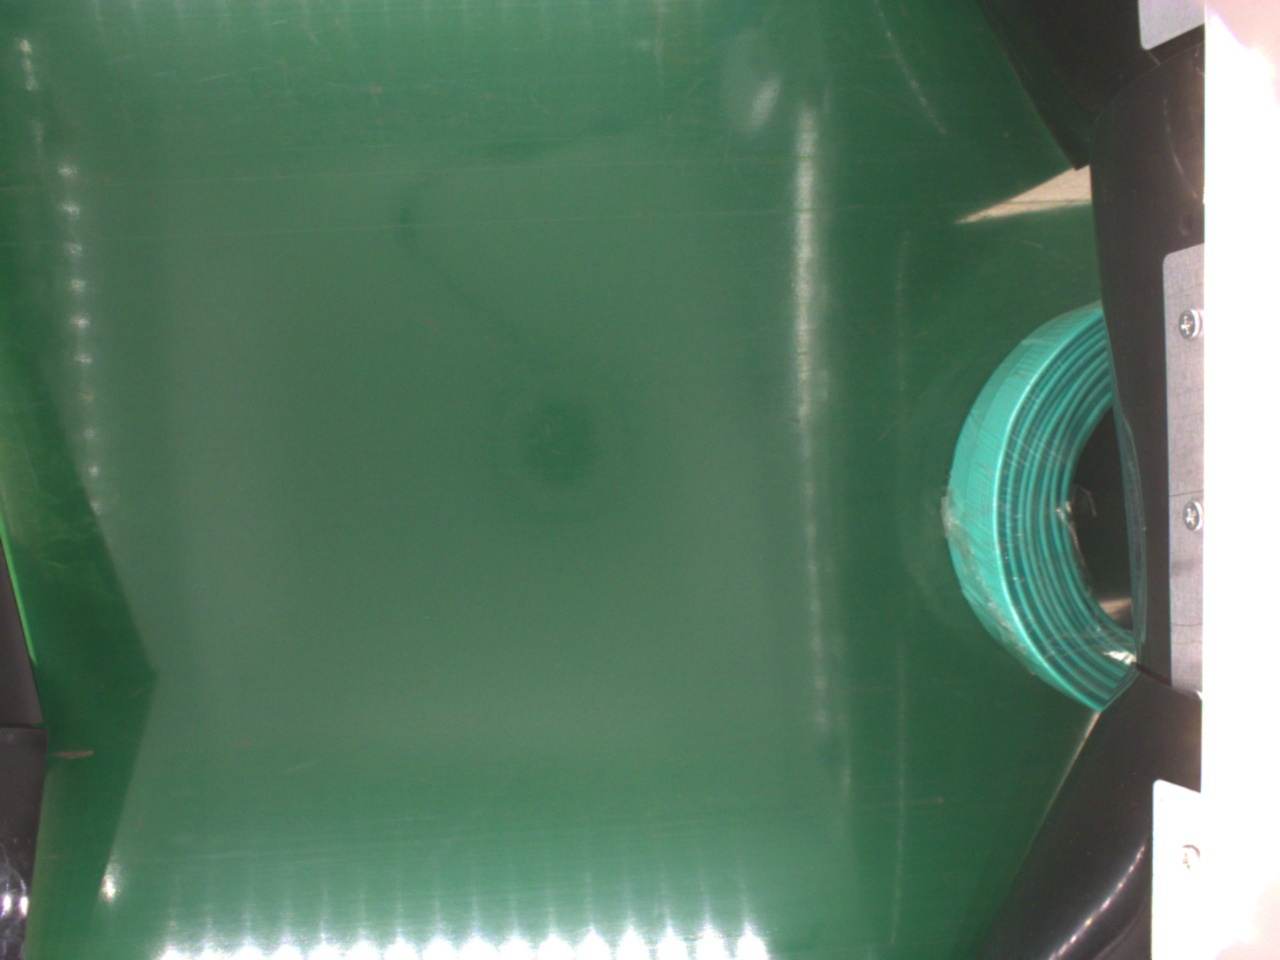green: (943, 295, 1139, 706)
